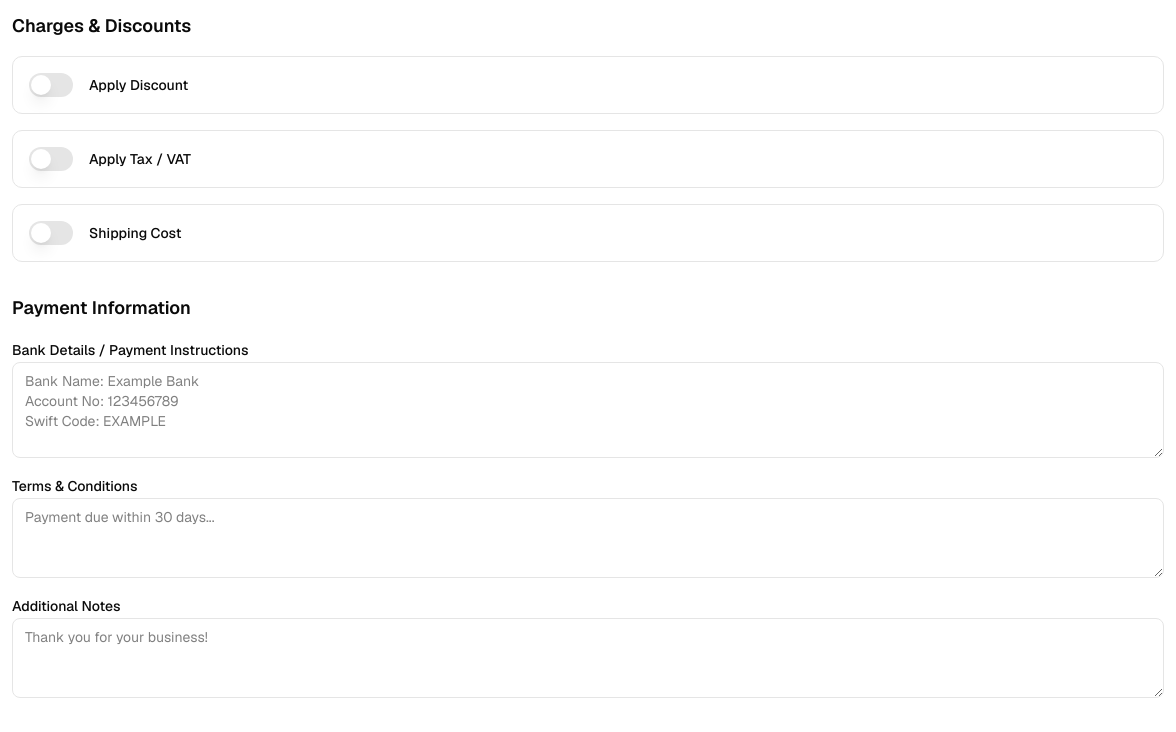
Scenario: PaymentForm › enables discount fields and switches to percentage mode
Click the switch next to "Apply Discount".
click(51, 85)  # box [29, 73, 73, 97]
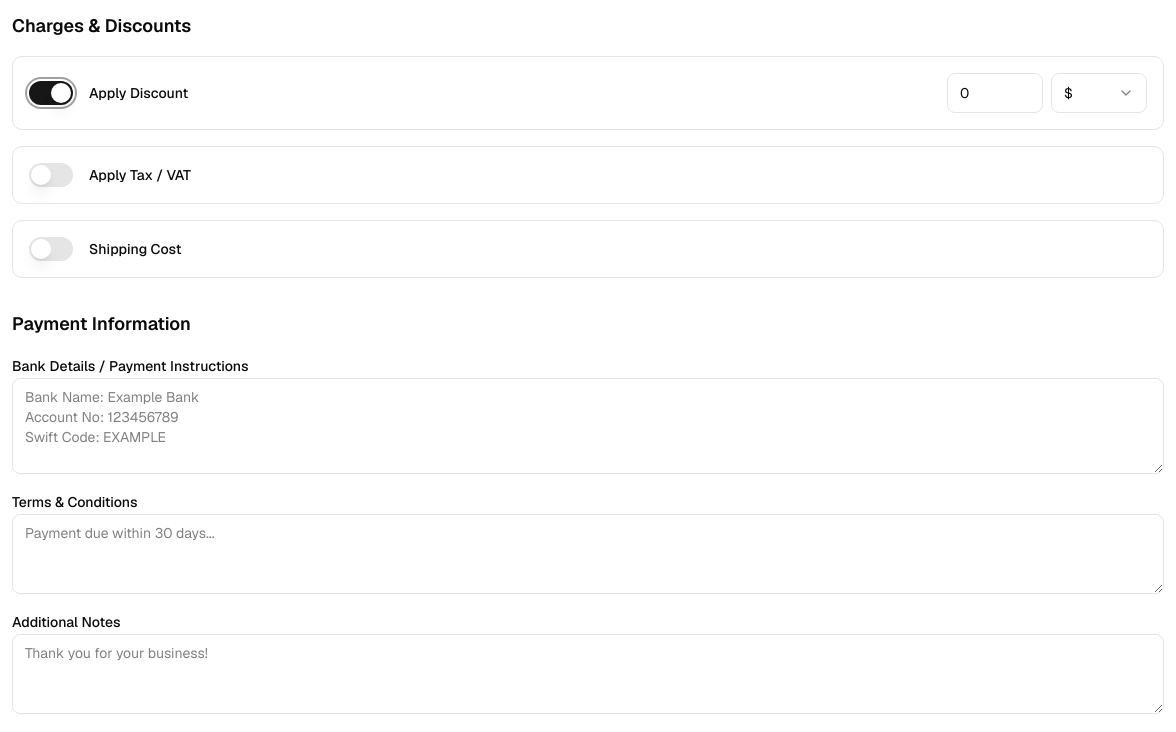
Result: the number field with placeholder "$" is shown at [947, 73, 1043, 113]
